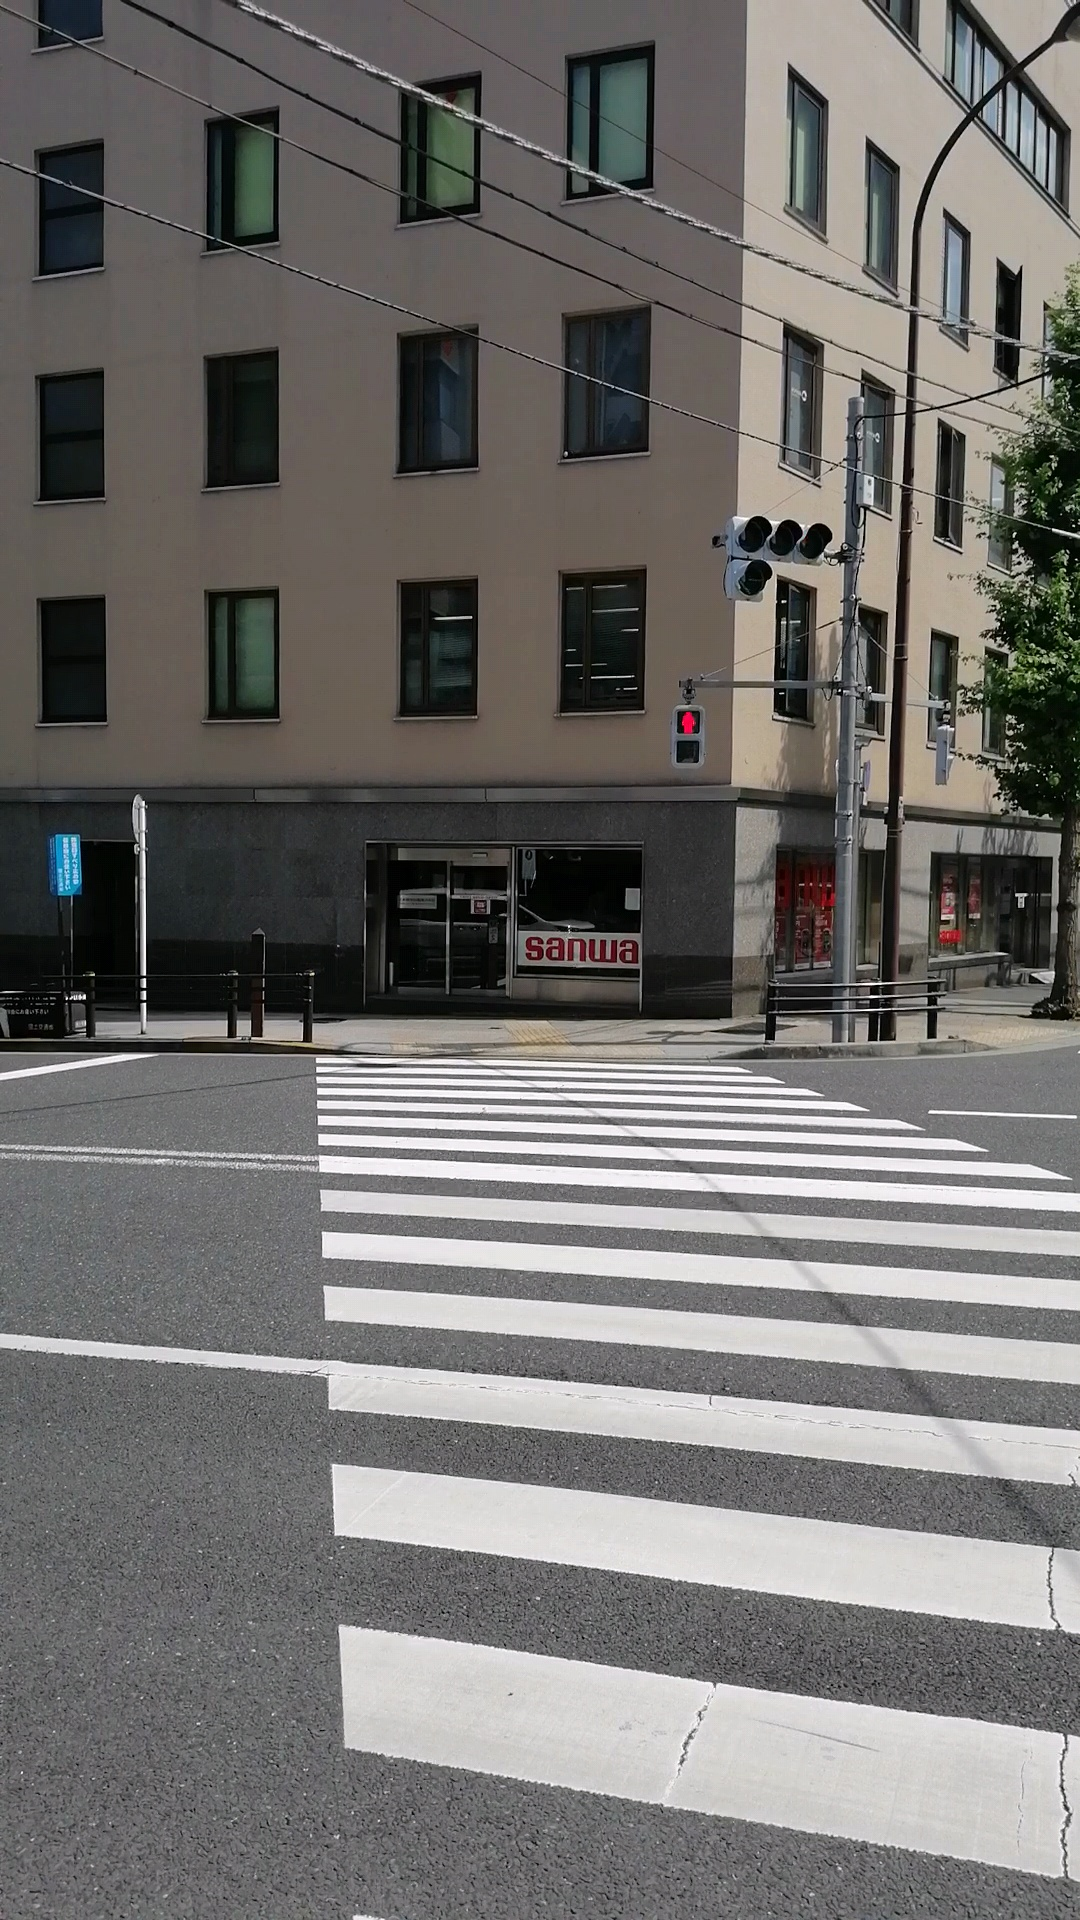red: (670, 704, 704, 771)
